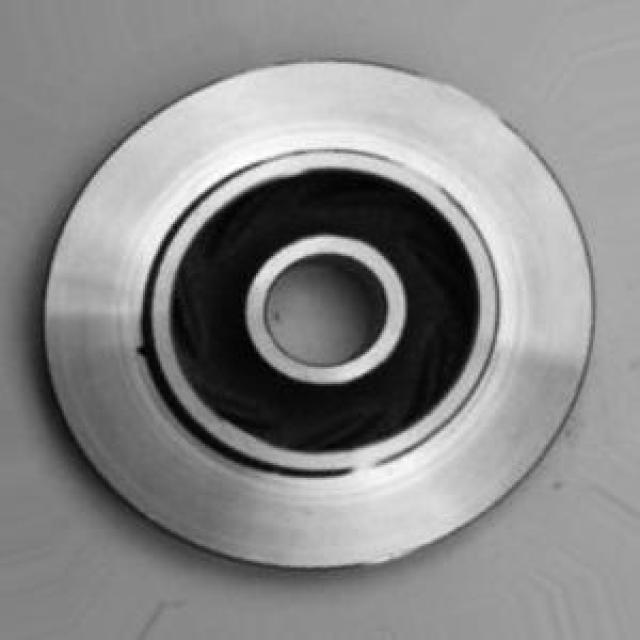Defect: (130, 337, 166, 368)
